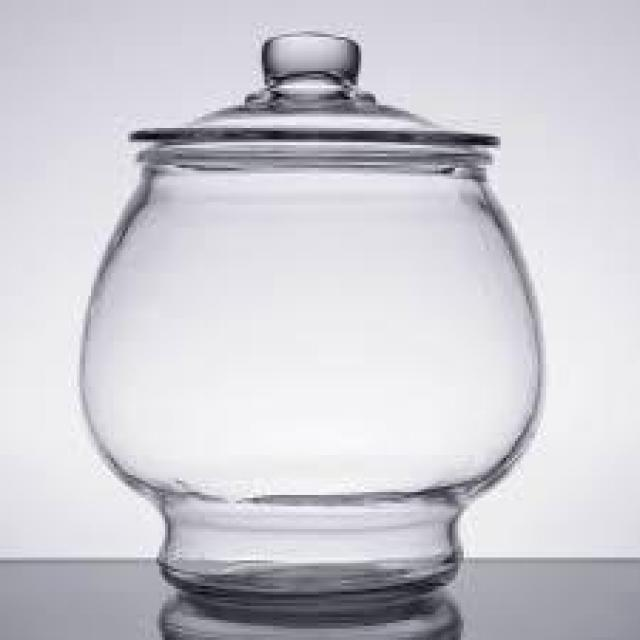glass: (68, 23, 555, 640)
